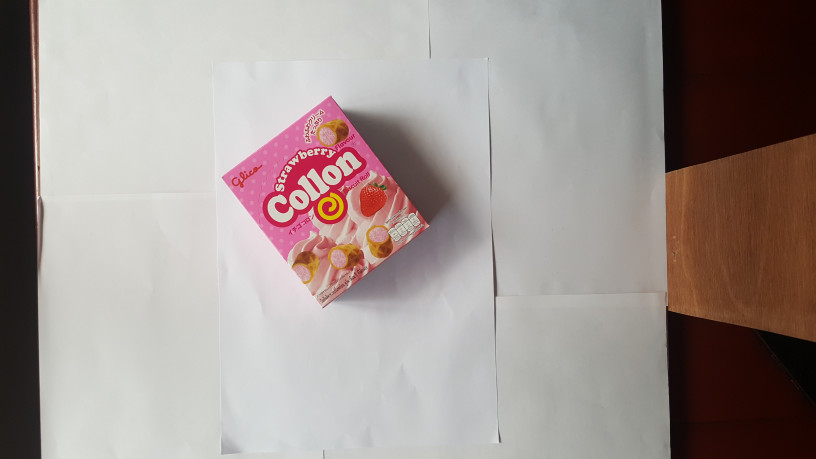collon-strawberry: (220, 94, 430, 308)
